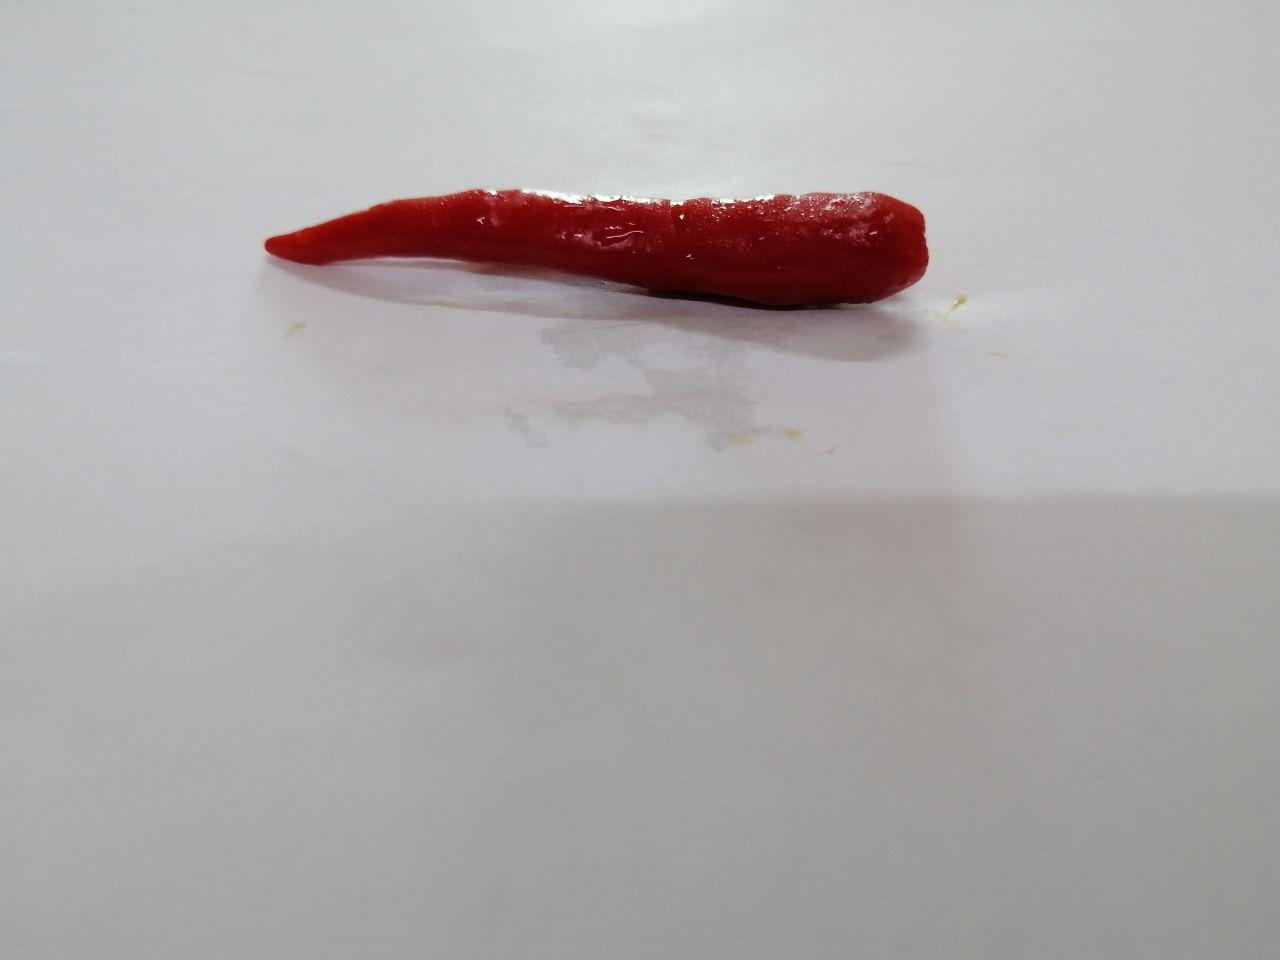lada merah: (237, 144, 959, 365)
